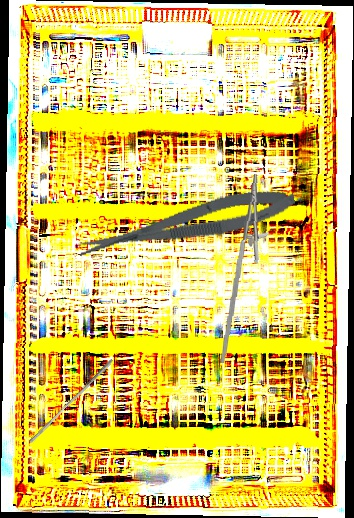Micro Scissor: (74, 181, 299, 265)
Needle Holder: (220, 173, 272, 365)
Pusher: (28, 355, 114, 447)
